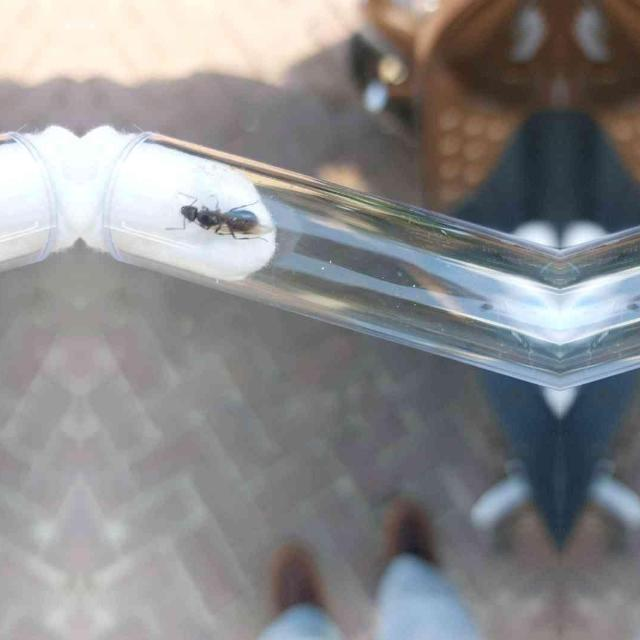Formica: (170, 189, 258, 247)
